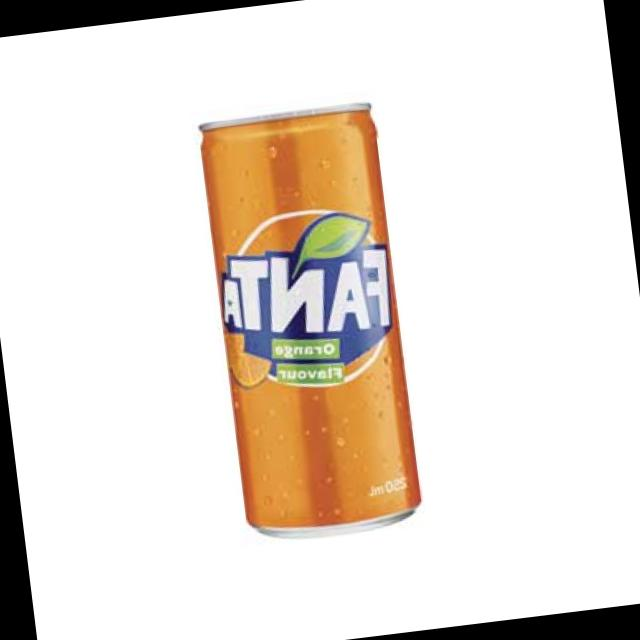fanta: (192, 90, 440, 548)
